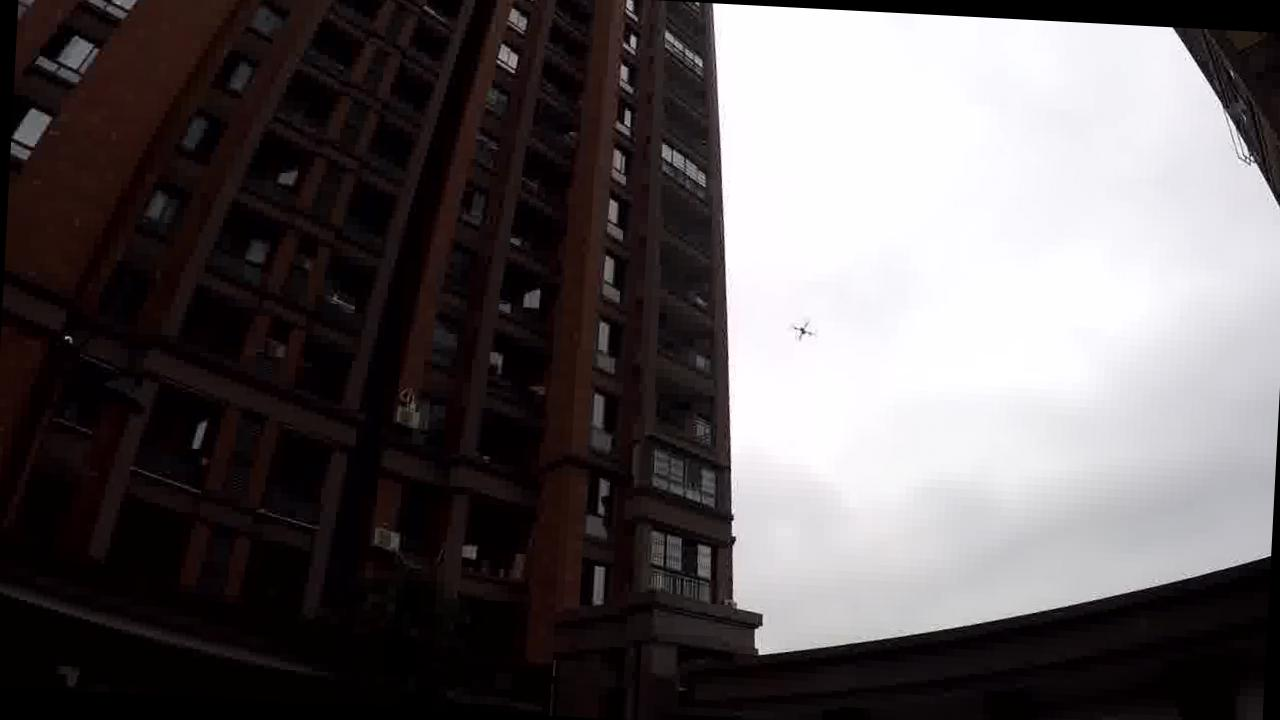drone: (786, 314, 816, 342)
